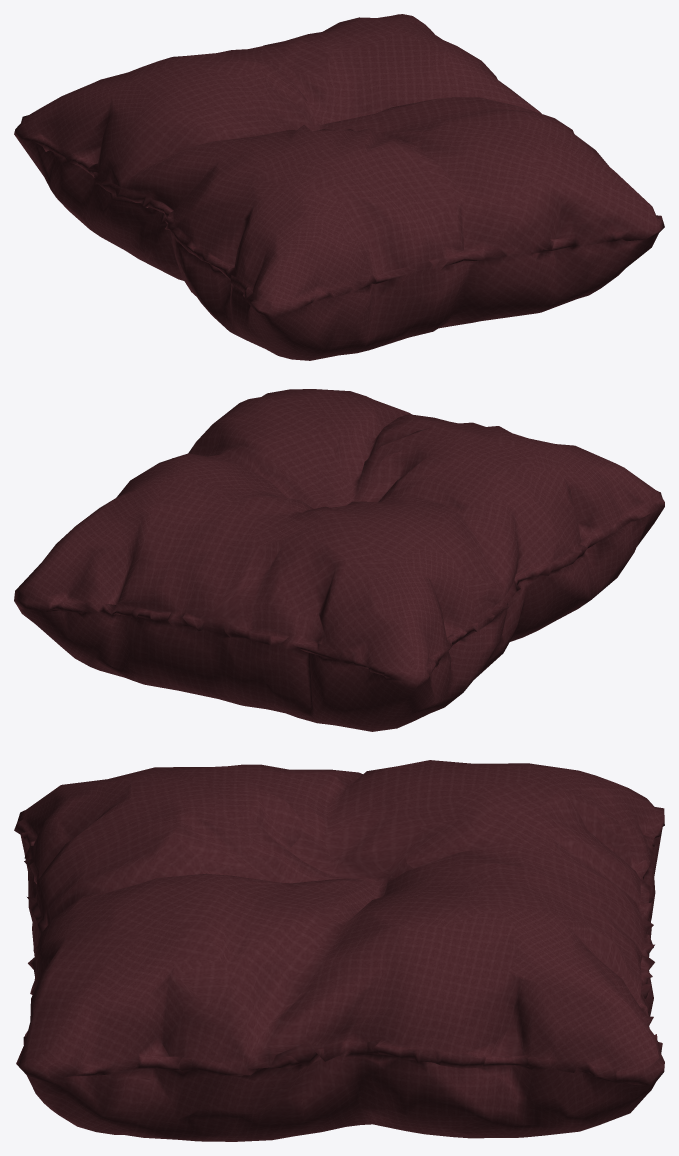
The model's file is throw_pillow_burgundy.glb.
The picture shows the model from 3 angles, top to bottom: view 1: azimuth 30°, elevation 25°; view 2: azimuth 150°, elevation 25°; view 3: azimuth 270°, elevation 25°; orthographic projection. The views are drawn at different scales.
Parts seen in each view (by area): view 1: tripo_node_27da104b-9374-46d5-bd00-eca364744c90; view 2: tripo_node_27da104b-9374-46d5-bd00-eca364744c90; view 3: tripo_node_27da104b-9374-46d5-bd00-eca364744c90.
Part boxes in pixels (<box>): tripo_node_27da104b-9374-46d5-bd00-eca364744c90: <box>14,14,664,360</box>; tripo_node_27da104b-9374-46d5-bd00-eca364744c90: <box>14,389,664,731</box>; tripo_node_27da104b-9374-46d5-bd00-eca364744c90: <box>14,760,664,1141</box>.
Bounding box in the file's own units: 0.9201 × 0.3952 × 1.
1 material, 1 textured.
